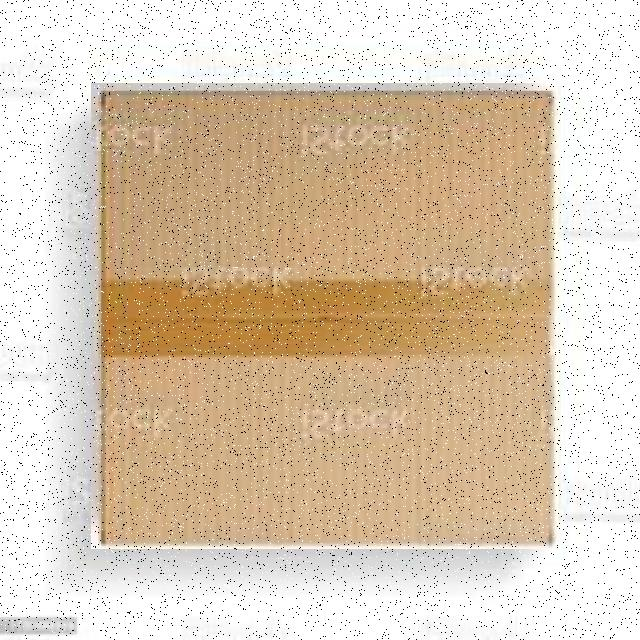normal: (91, 83, 558, 549)
